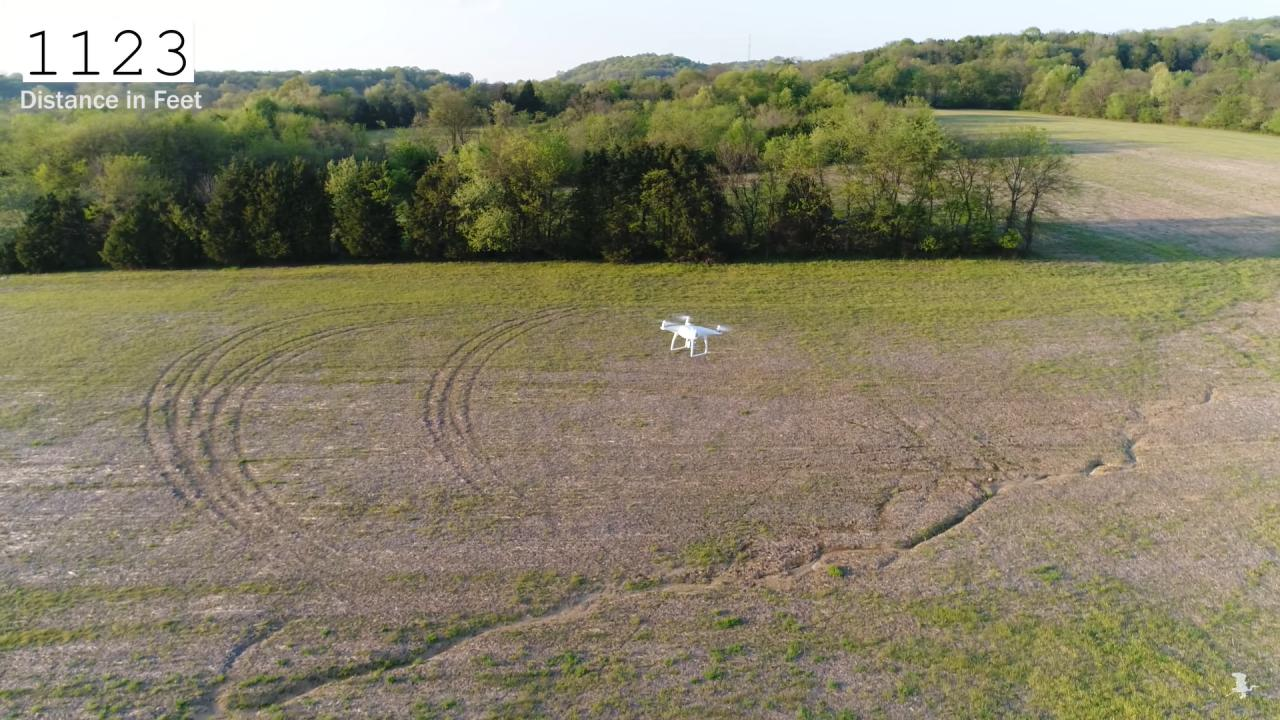Drone: (649, 305, 742, 365)
